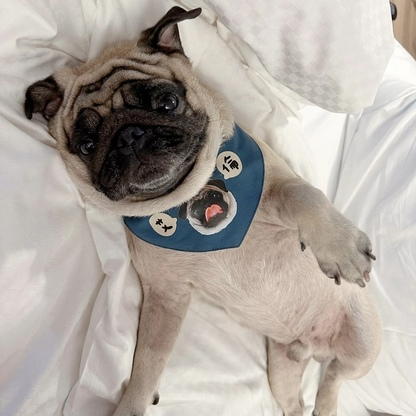Pug: (19, 2, 388, 416)
